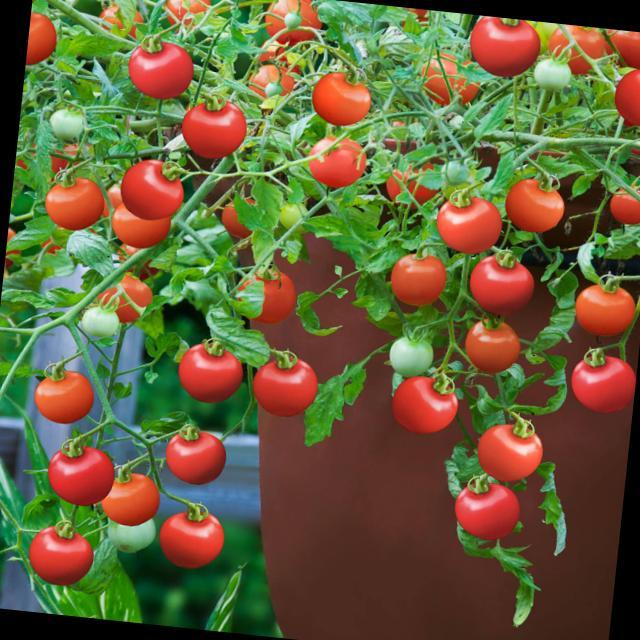TOMATO: (472, 406, 550, 482), (115, 154, 193, 228), (155, 498, 234, 570), (48, 436, 119, 510), (449, 474, 524, 540), (252, 354, 323, 423), (390, 366, 462, 432), (180, 338, 246, 409), (182, 100, 252, 160), (126, 40, 190, 101)
